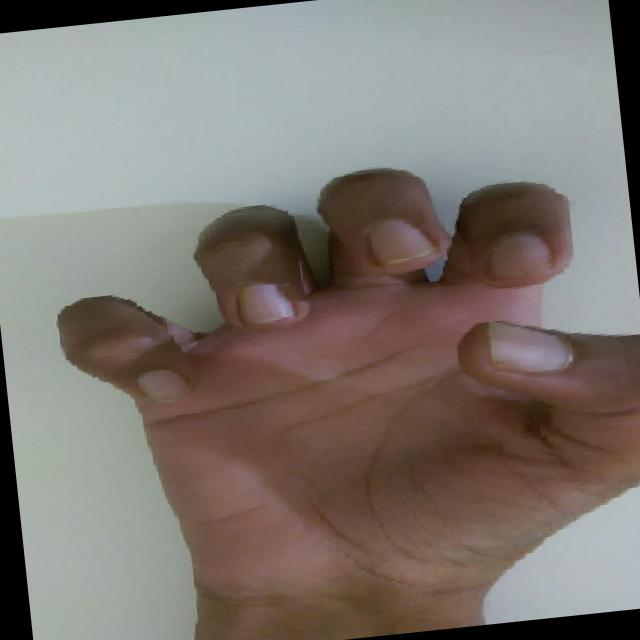Nail: (487, 320, 571, 371), (369, 220, 434, 264), (489, 230, 554, 272), (236, 282, 290, 324), (137, 367, 186, 400)
